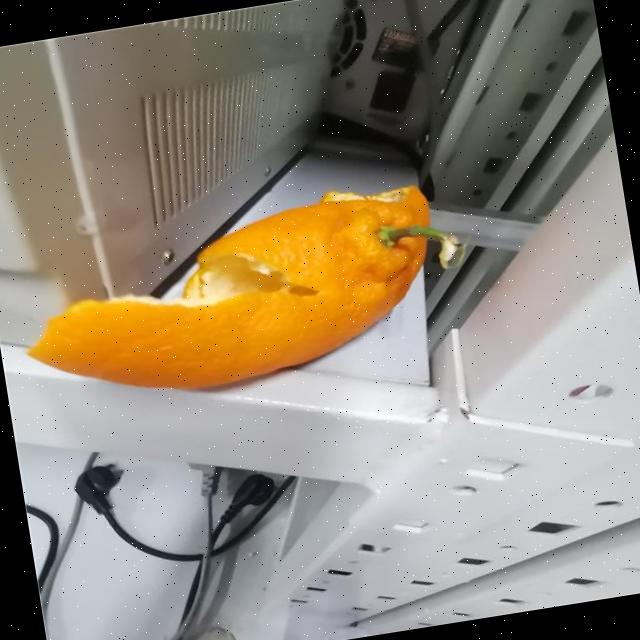orange-peel: (8, 172, 464, 418)
